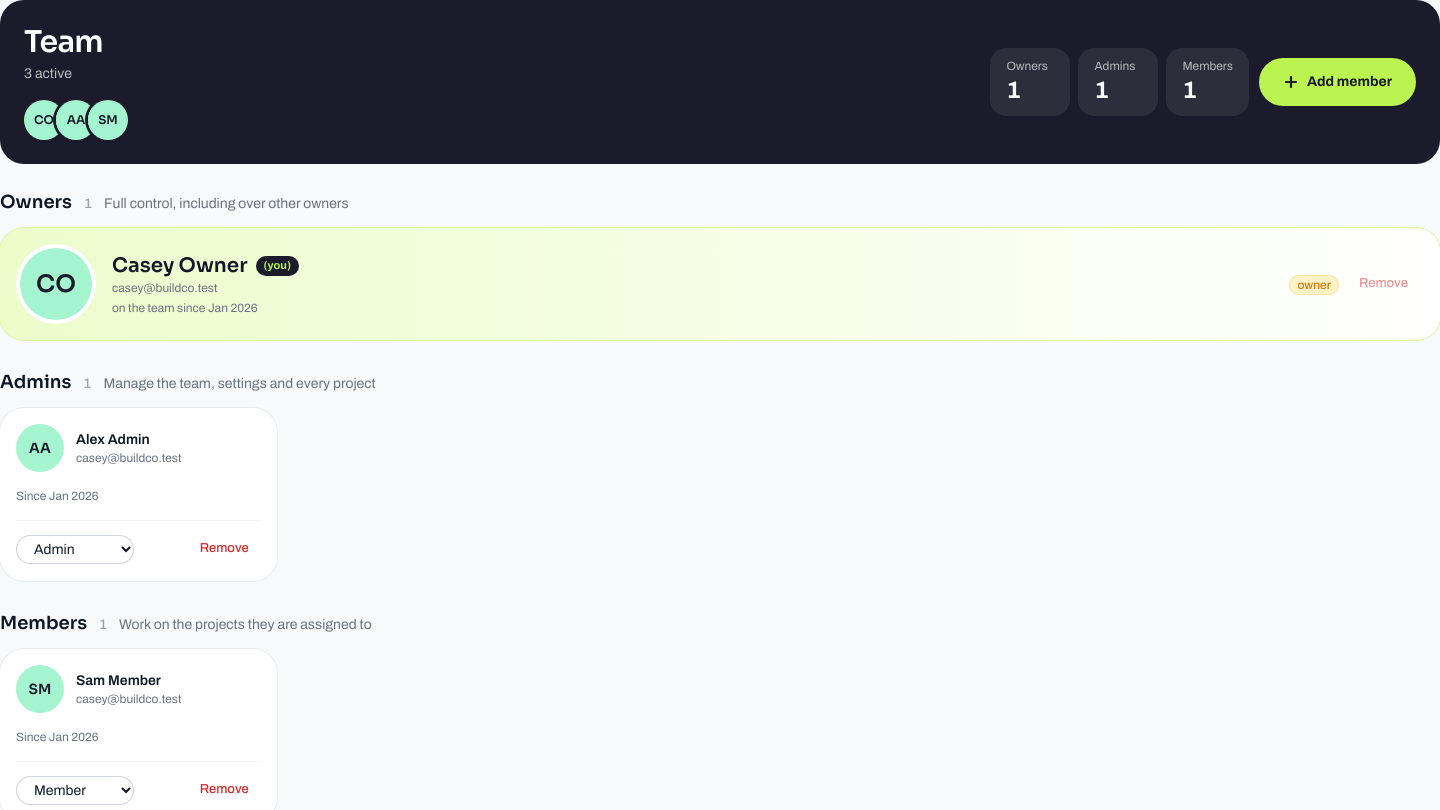
TeamPage › adding a member › will not send to something that is not an address
Click the button "Add member": (1338, 82) [1259, 58, 1416, 106]
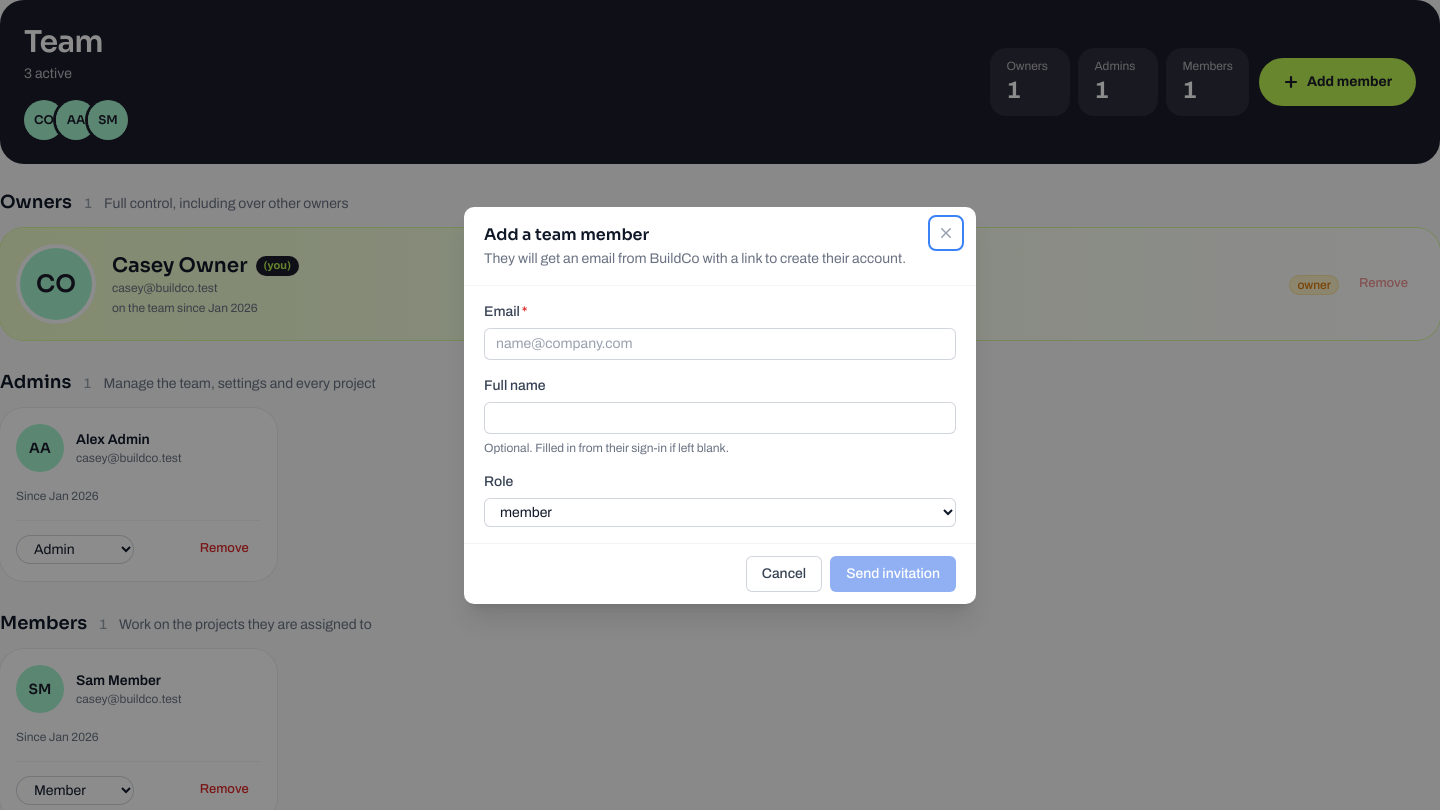
In the field labelled "Email*": (720, 344) [484, 328, 956, 360], type "new.hire@"
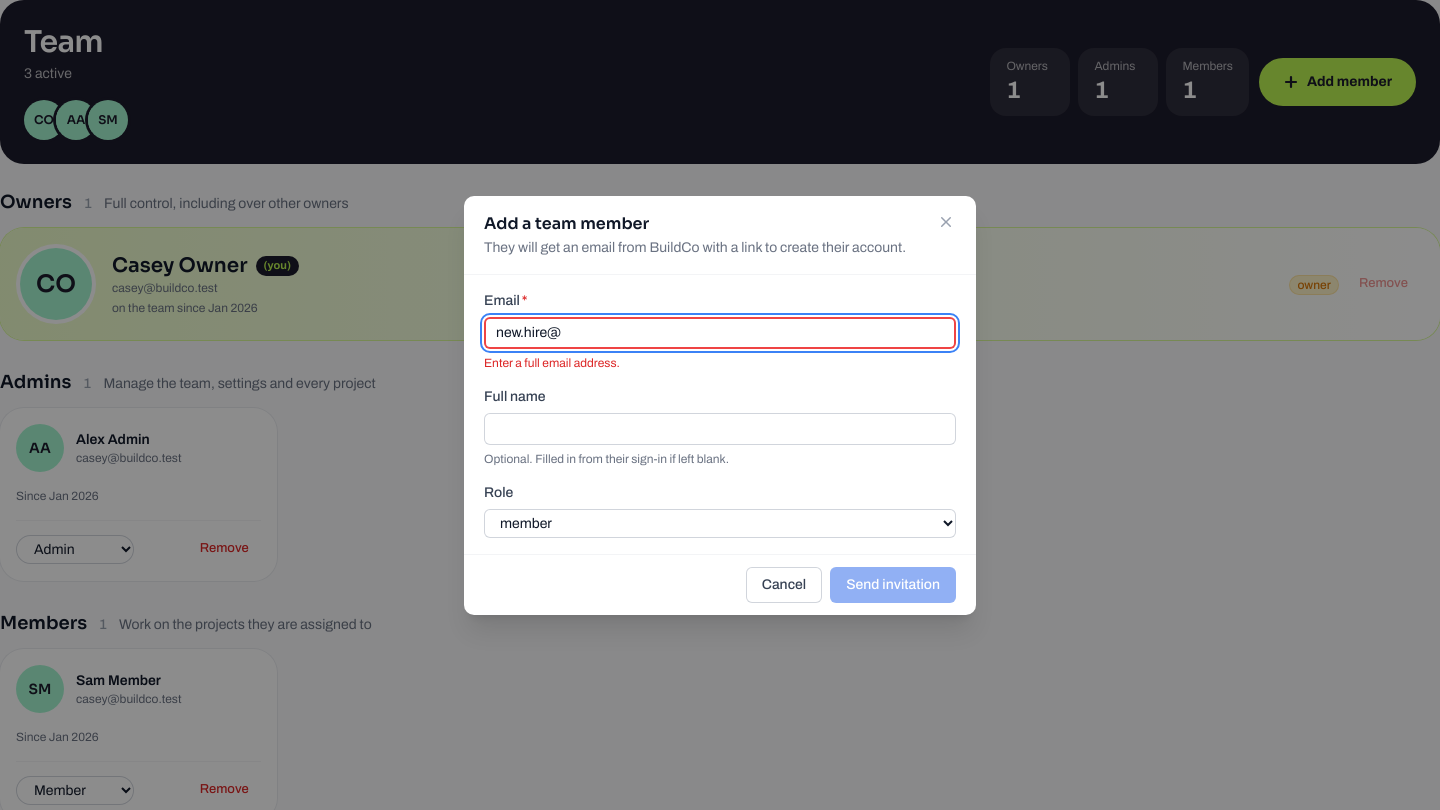
Expected: the button "Send invitation" is disabled, [830, 566, 956, 602]
Expected: the text "Enter a full email address." is shown, [484, 356, 620, 370]
